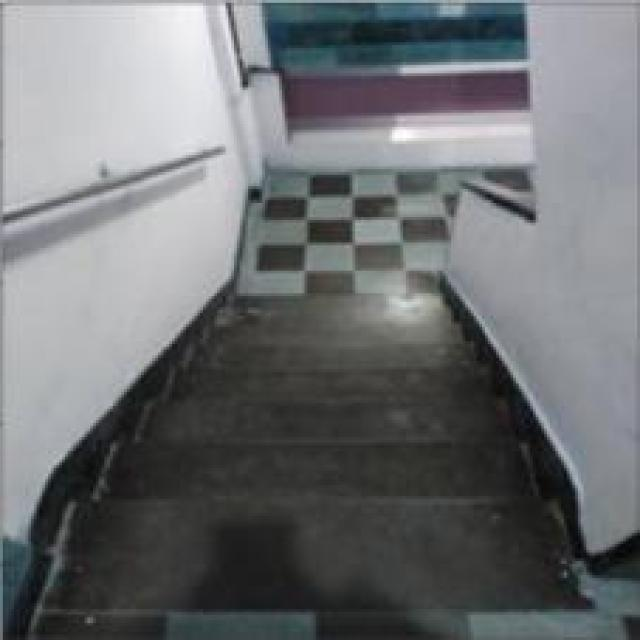downstair: (72, 399, 545, 571)
